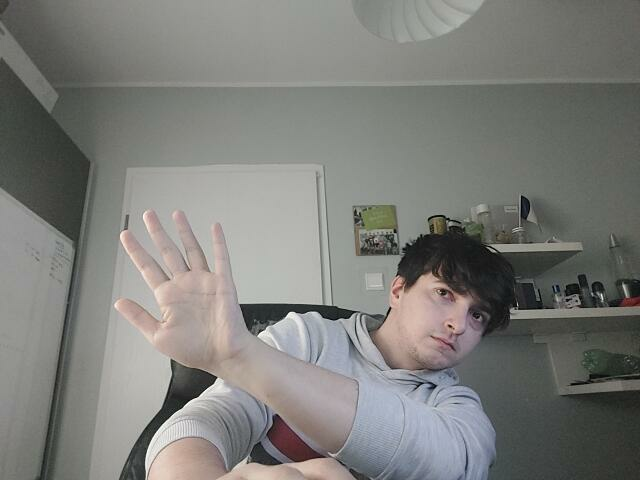hello: (112, 208, 246, 364)
